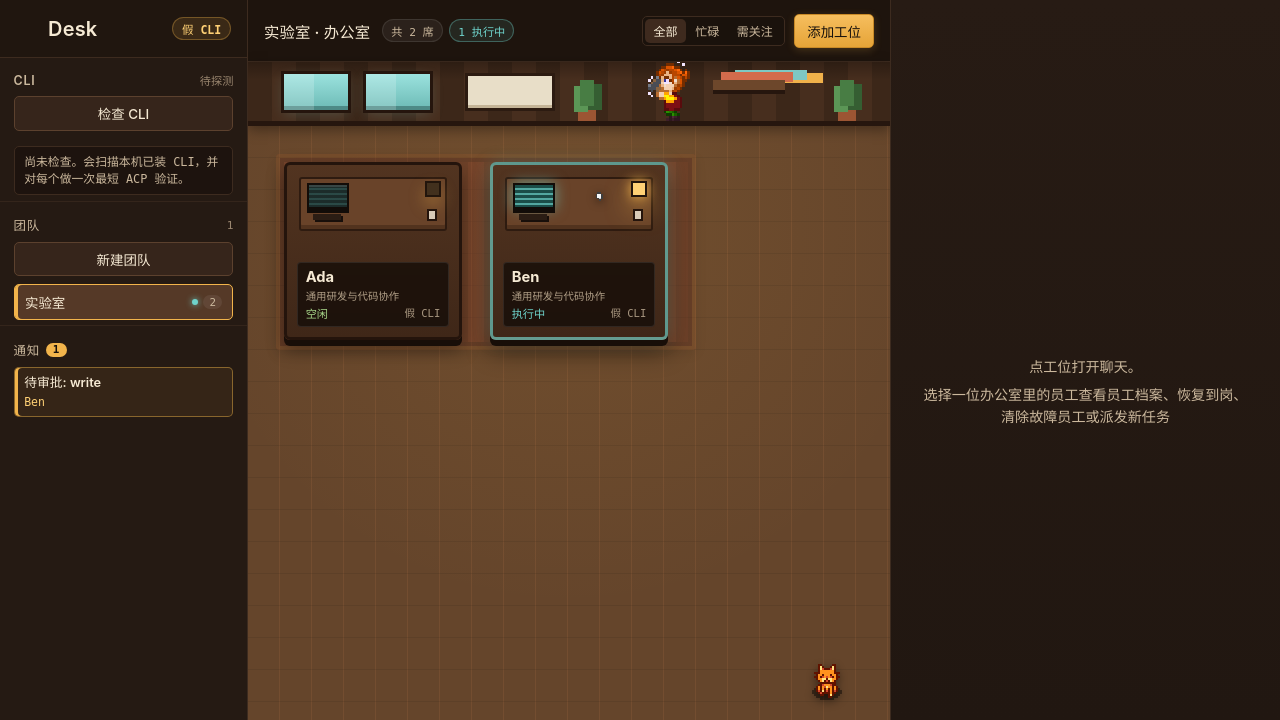
Test: Desk 前端 › 添加工位前必须先检查 CLI
The width and height of the screenshot is (1280, 720).
Click the button "添加工位". click: click(834, 31)
box: [794,14,874,48]
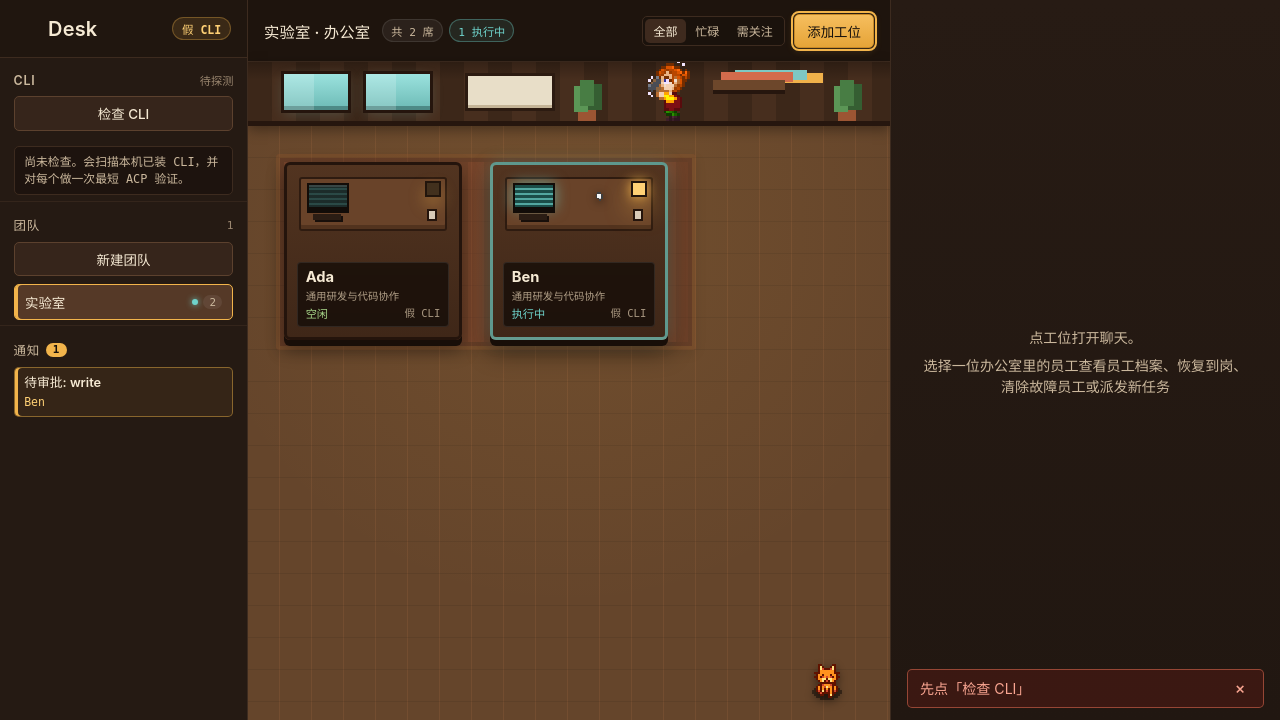
Now the text "先点「检查 CLI」" is shown, box [920,678,1030,699]
